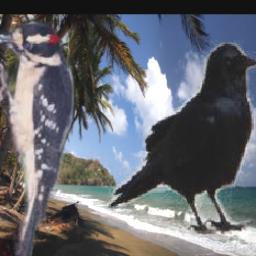Crow: (104, 41, 256, 236)
Woodpecker: (0, 16, 77, 256)
